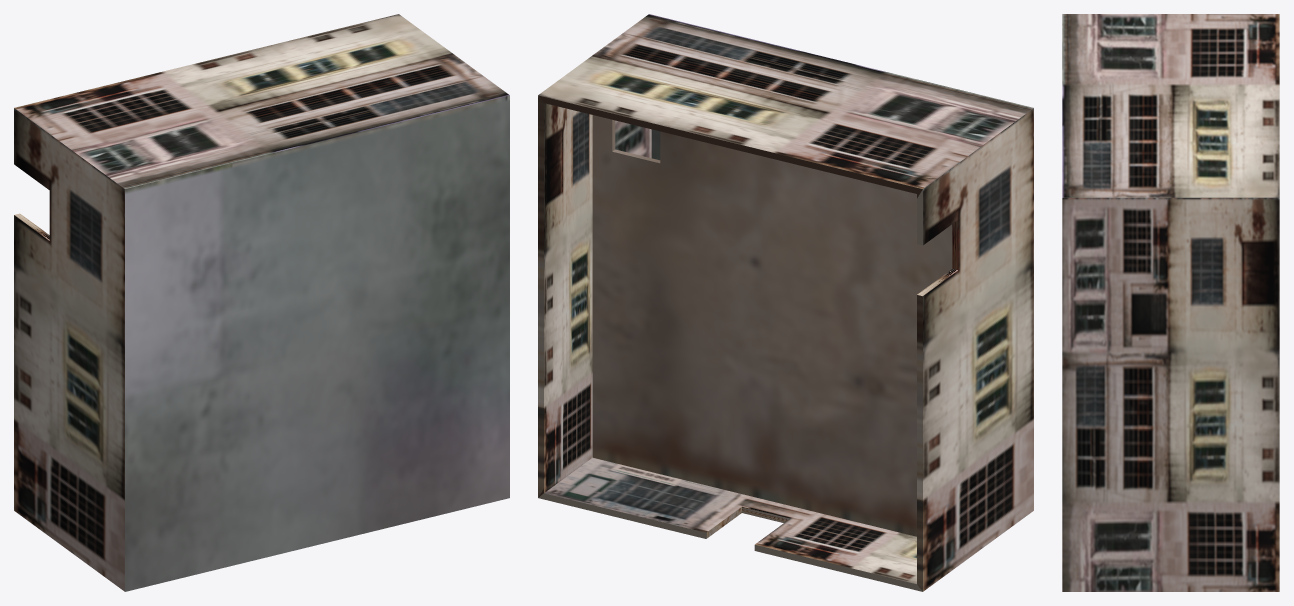
Rendered from 8x8SW_2story_wtf.obj.
The picture shows the model from 3 angles, left to right: view 1: azimuth 30°, elevation 25°; view 2: azimuth 150°, elevation 25°; view 3: azimuth 270°, elevation 25°; orthographic projection. The views are drawn at different scales.
Visible parts, largest first — view 1: group2; view 2: group2, group5, group3; view 3: group2.
Boxes of the visible parts, box(x1,y1,x2,y2) form: group2: box(14, 14, 509, 591); group2: box(538, 14, 1033, 591); group5: box(592, 115, 952, 536); group3: box(615, 120, 660, 160); group2: box(1062, 14, 1279, 591).
Bounding box in the file's own units: 660 × 660 × 330.
